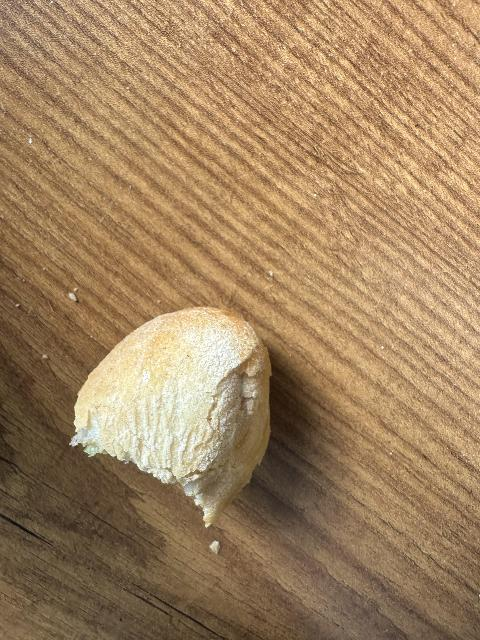Organik: (59, 303, 286, 519), (65, 287, 84, 305), (206, 538, 221, 557)
